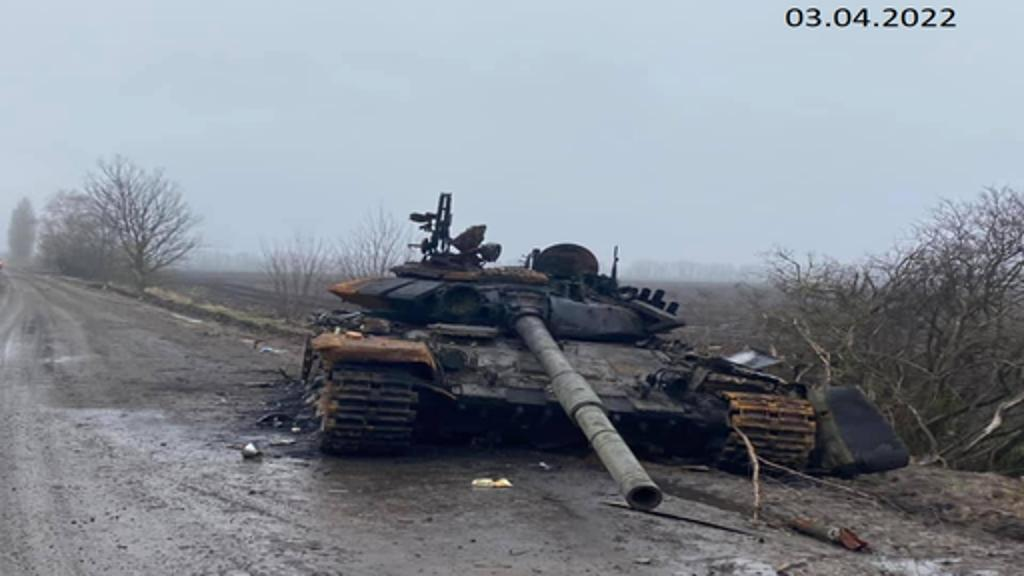TANK: (292, 226, 818, 510)
